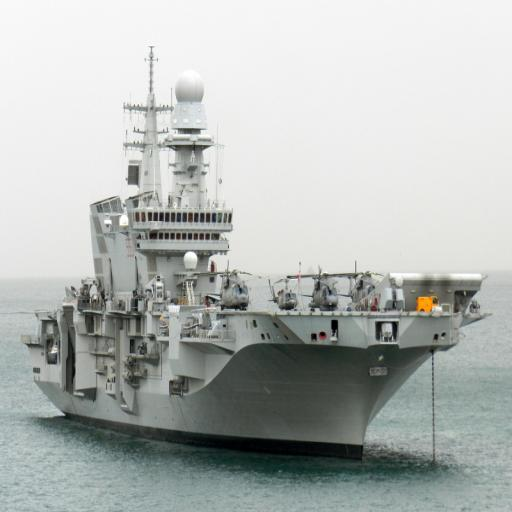Portanaves: (20, 38, 498, 467)
